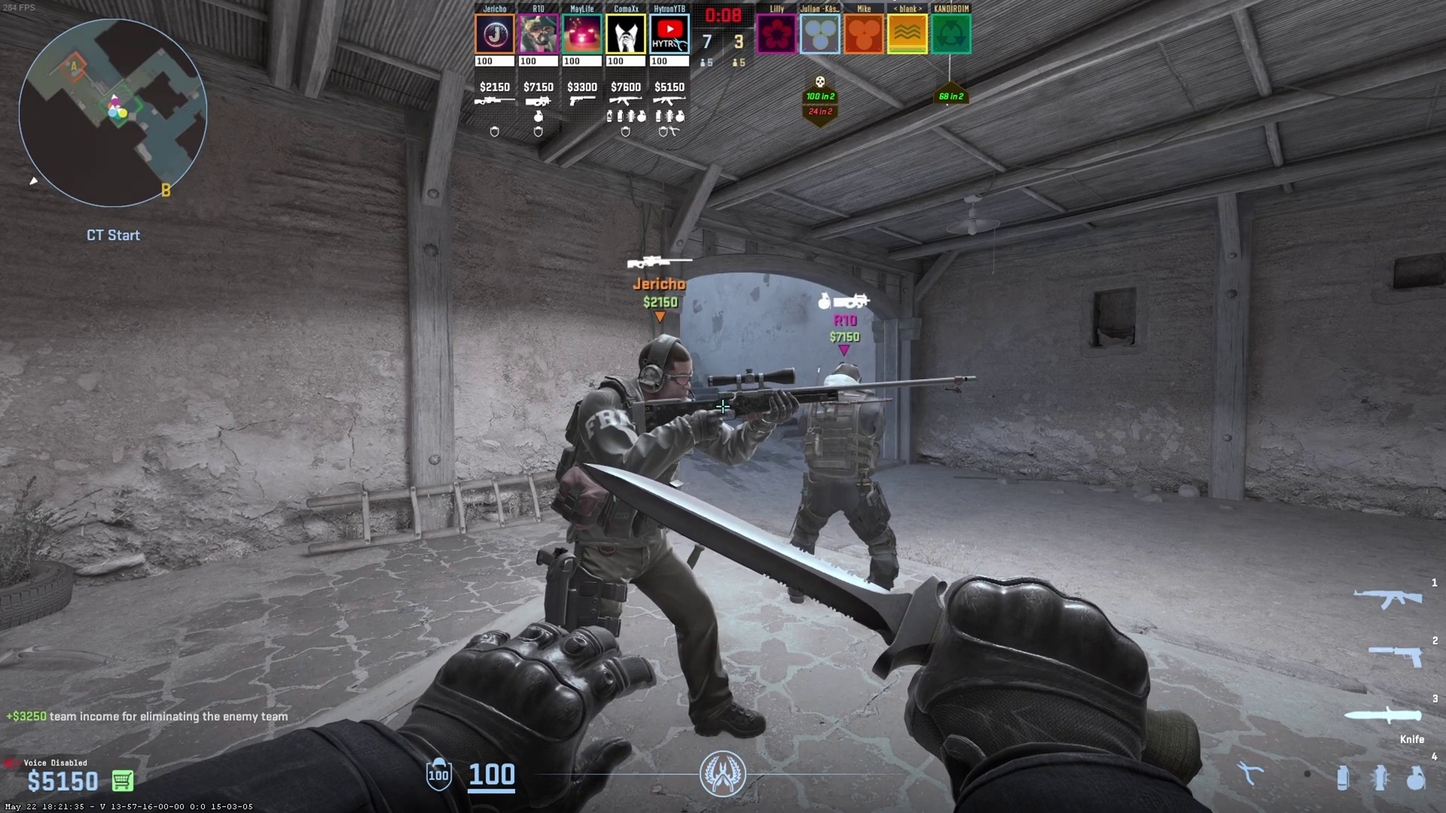CT: (566, 335, 762, 731), (795, 364, 894, 585)
